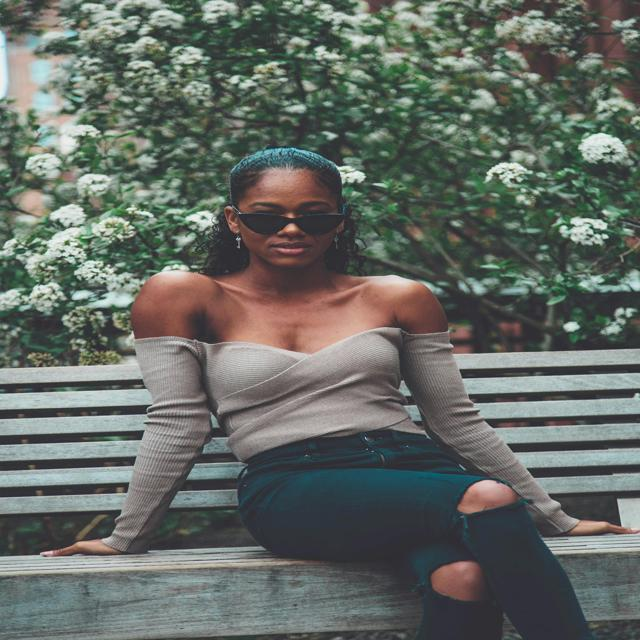2_gafas: (230, 202, 346, 236)
